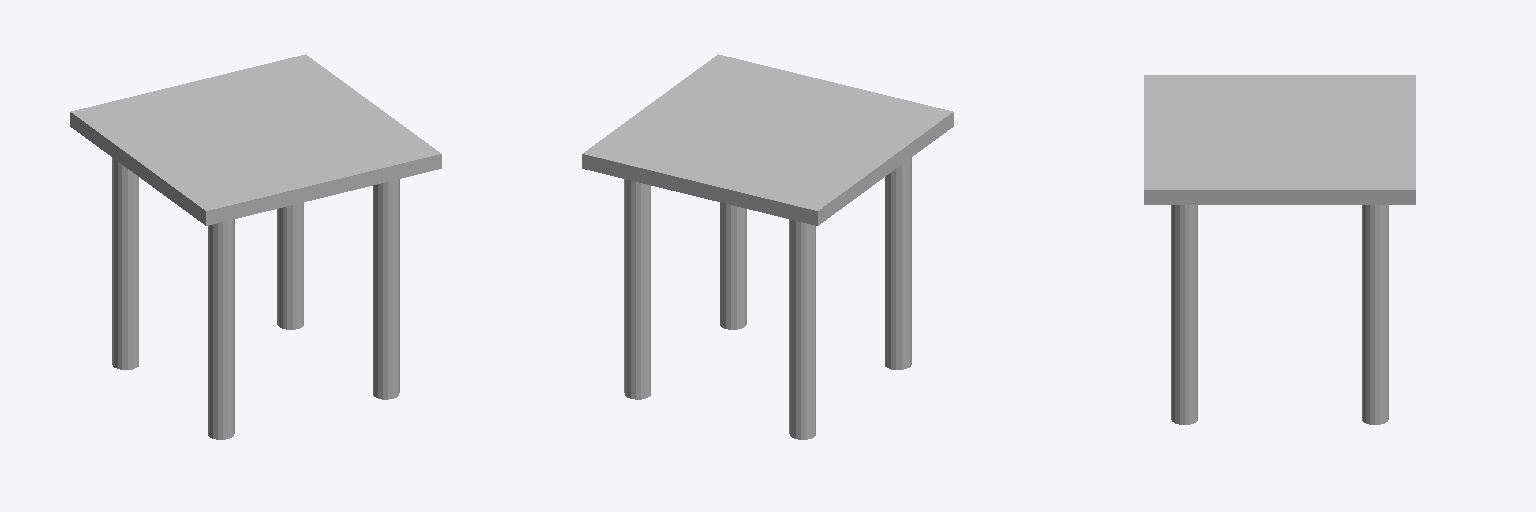
File: table.obj
The picture shows the model from 3 angles: view 1: azimuth 30°, elevation 25°; view 2: azimuth 150°, elevation 25°; view 3: azimuth 270°, elevation 25°; orthographic projection.
Visible parts, largest first — view 1: Table_Cube.001; view 2: Table_Cube.001; view 3: Table_Cube.001.
Part boxes in pixels (x1,y1,x2,y2): Table_Cube.001: (70, 54, 441, 439); Table_Cube.001: (582, 54, 953, 439); Table_Cube.001: (1144, 75, 1415, 424).
Size of the model in its own units: 2 by 2 by 2.